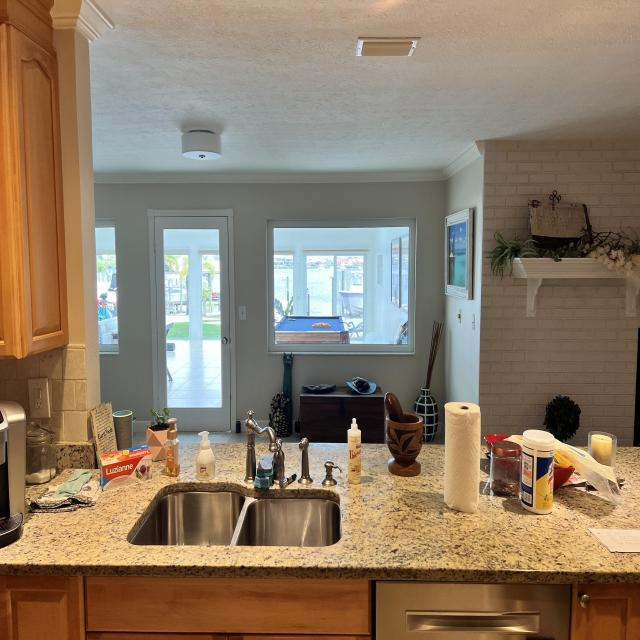Appliance_Dishwasher: (372, 583, 574, 640)
Appliance_Sink: (172, 418, 342, 548)
Cabinet_Flat: (84, 577, 374, 637)
Cabinet_Raised_Panel: (0, 575, 82, 640), (570, 582, 640, 640)
Countertop_Granite: (0, 443, 640, 583)
